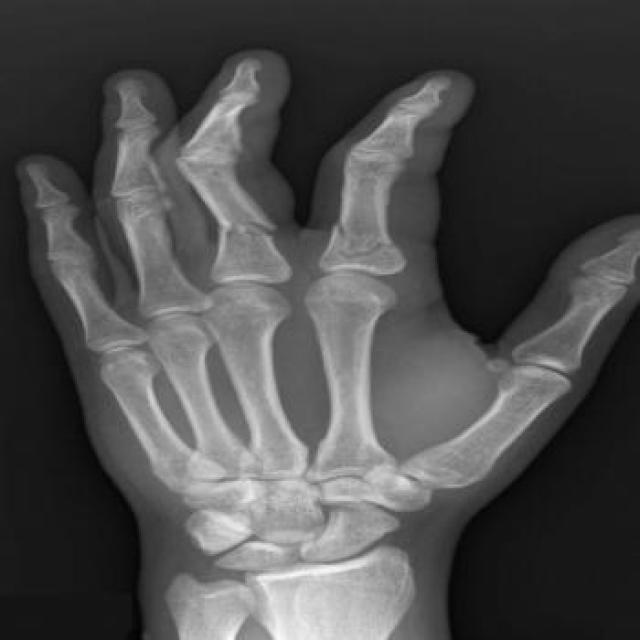fracture: (317, 218, 418, 265), (202, 213, 295, 250)
